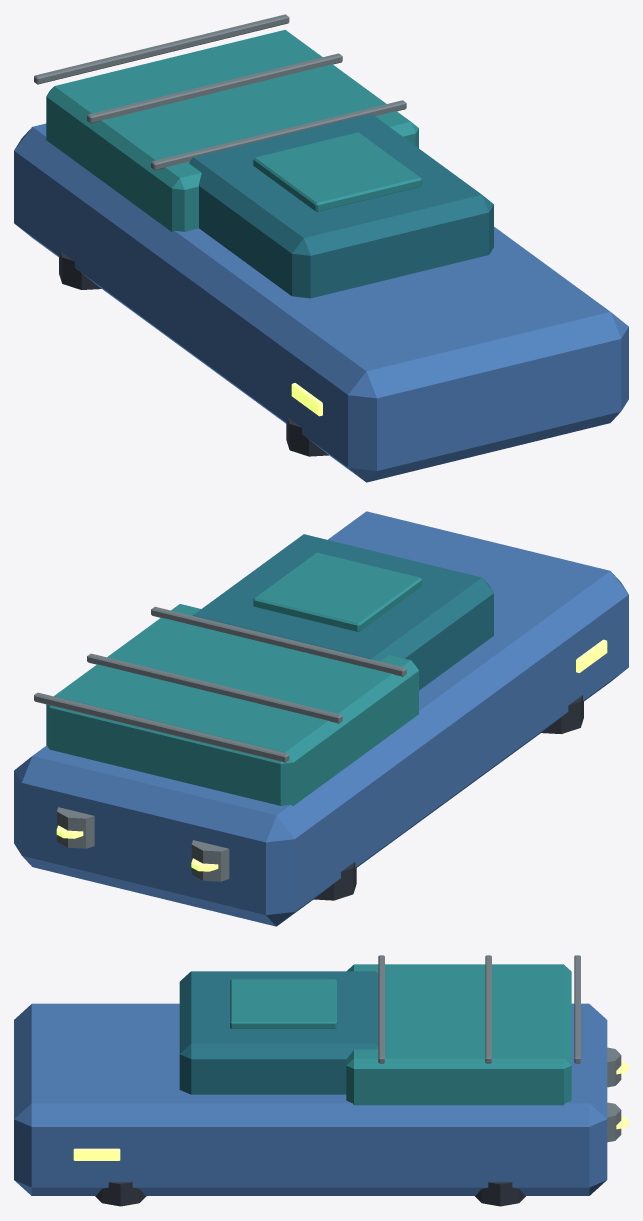
File: vehicles_017_seed11.glb
3 views of the same model, one above another, from view 1: azimuth 30°, elevation 25°; view 2: azimuth 150°, elevation 25°; view 3: azimuth 270°, elevation 25° (orthographic). The views are drawn at different scales.
Visible parts, largest first — view 1: vehicles_017_seed11; view 2: vehicles_017_seed11; view 3: vehicles_017_seed11.
Boxes of the visible parts, <box> form: vehicles_017_seed11: <box>14,14,628,482</box>; vehicles_017_seed11: <box>14,511,628,926</box>; vehicles_017_seed11: <box>14,955,628,1206</box>.
Size of the model in its own units: 2.53 by 1.49 by 5.54.
